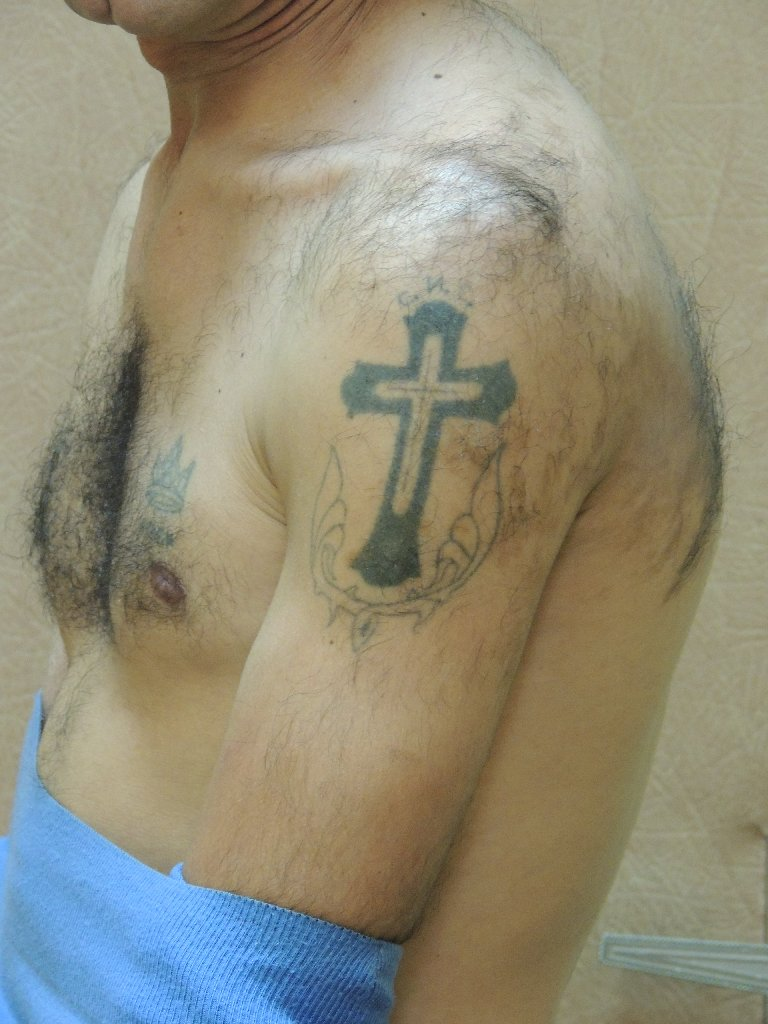tatu3_bukva: (419, 268, 454, 301)
tatu9_krest: (340, 297, 516, 601)
